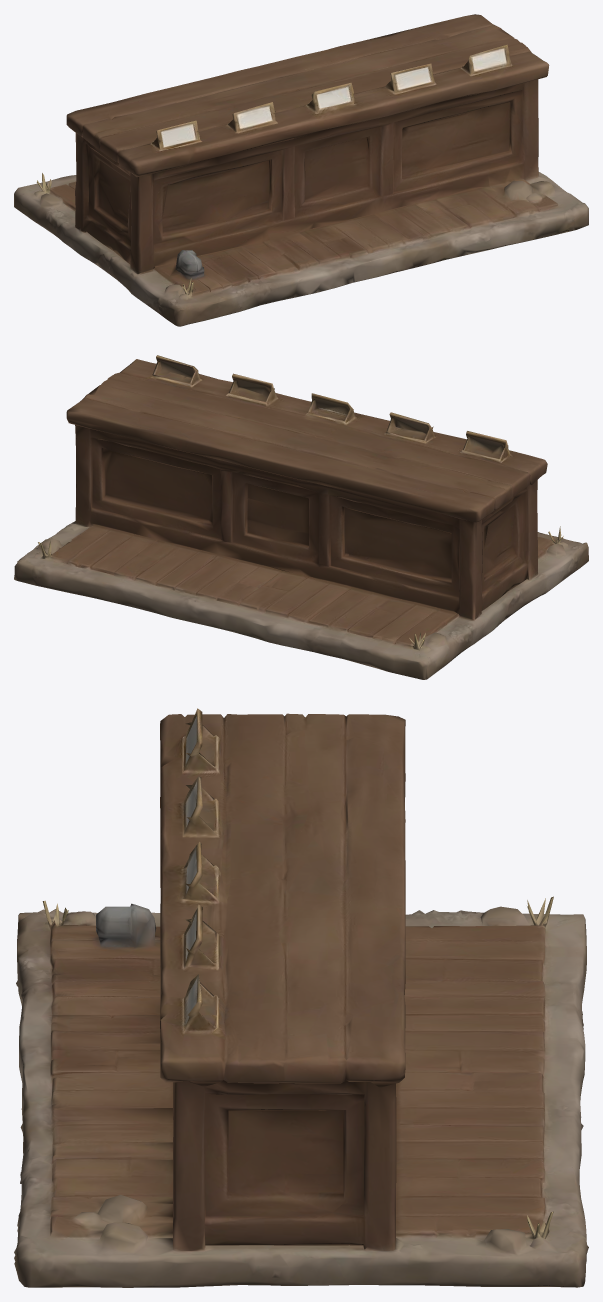
File: panel_bench.glb
The picture shows the model from 3 angles, top to bottom: view 1: azimuth 30°, elevation 25°; view 2: azimuth 150°, elevation 25°; view 3: azimuth 270°, elevation 25°; orthographic projection. The views are drawn at different scales.
Parts seen in each view (by area): view 1: tripo_node_5ca37212-a41b-4e80-b9c3-62e3f185ad37; view 2: tripo_node_5ca37212-a41b-4e80-b9c3-62e3f185ad37; view 3: tripo_node_5ca37212-a41b-4e80-b9c3-62e3f185ad37.
Part boxes in pixels (box(x1,y1,x2,y2)): tripo_node_5ca37212-a41b-4e80-b9c3-62e3f185ad37: box(14, 14, 588, 326); tripo_node_5ca37212-a41b-4e80-b9c3-62e3f185ad37: box(14, 355, 588, 679); tripo_node_5ca37212-a41b-4e80-b9c3-62e3f185ad37: box(14, 708, 588, 1287).
Size of the model in its own units: 1 by 0.3449 by 0.6919.
Materials: 1 (1 with a texture image).
